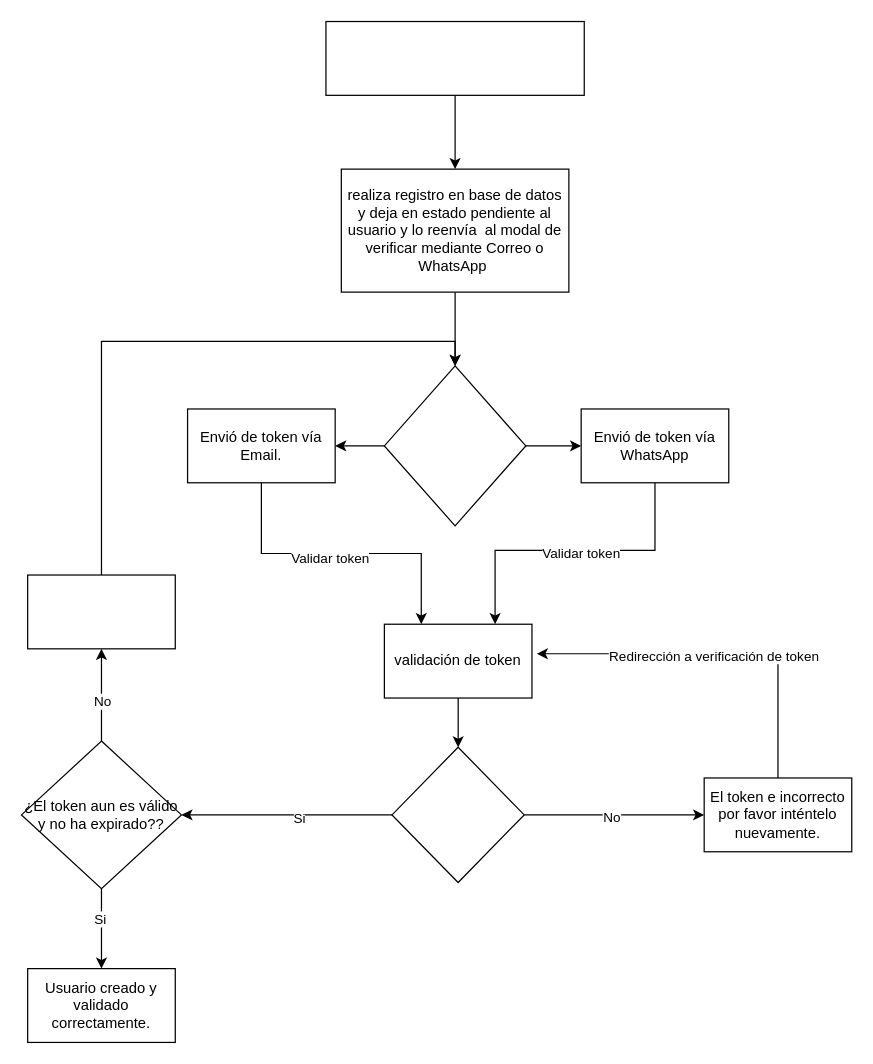
The diagram is 873 pixels wide and 1064 high, and some of its shapes have lost their labels. Each missing label, with the centre of its shape:
"Modal: desea realizar verificación mediante:" goes at (454,445).
"Pagina de generar nuevo token:" goes at (100,611).
"usuario ingresa sus datos" goes at (454,57).
"¿El token es el correcto?" goes at (457,814).
